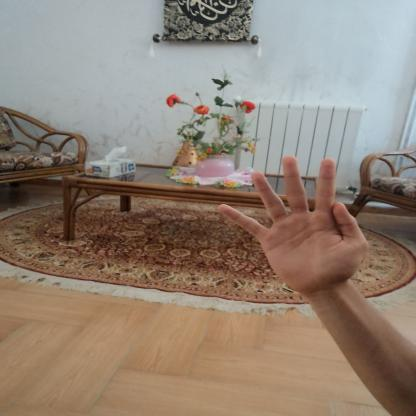SHEEN: (207, 148, 378, 302)
